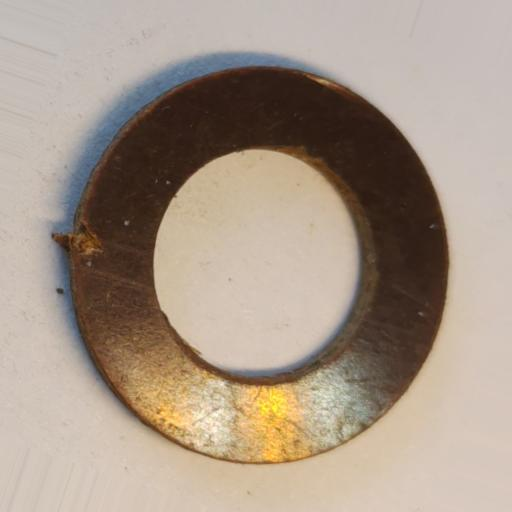defect: (48, 222, 108, 268)
